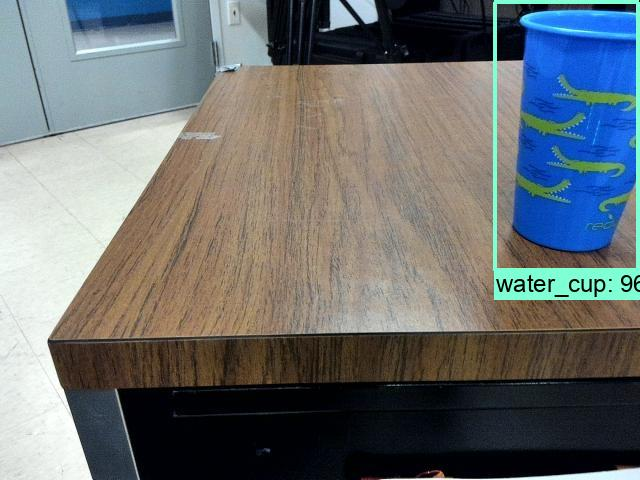water_cup: (501, 5, 640, 265)
